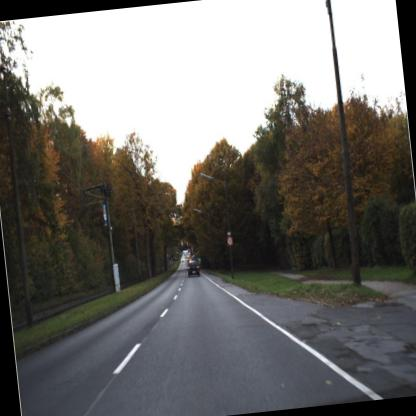prohibitory: (222, 234, 234, 249)
